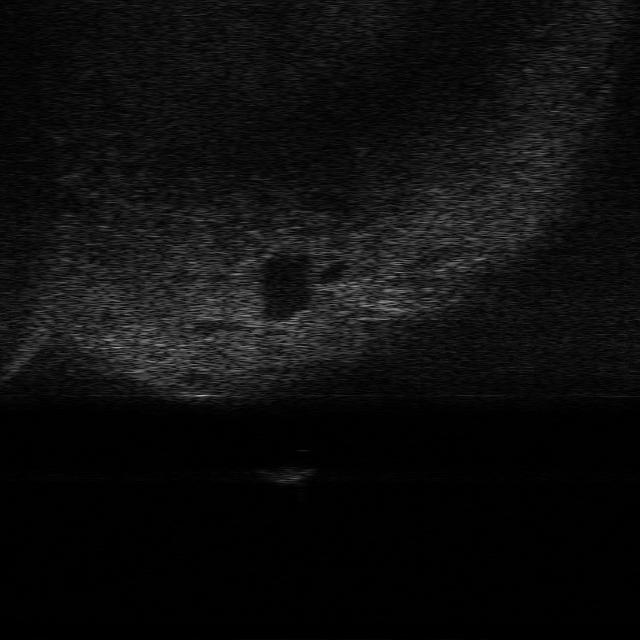cube: (251, 466, 314, 484)
